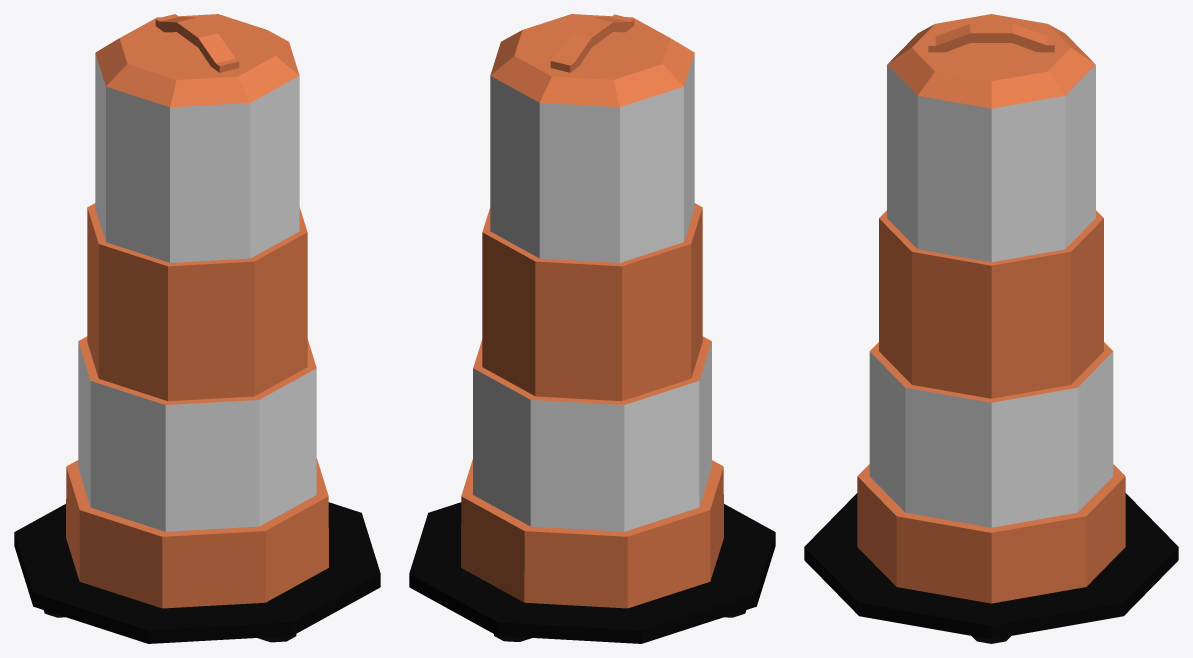
Rendered from Traffic_cone2.fbx.
3 renders of one model, left to right at view 1: azimuth 30°, elevation 25°; view 2: azimuth 150°, elevation 25°; view 3: azimuth 270°, elevation 25°, orthographic.
Parts seen in each view (by area): view 1: Circle; view 2: Circle; view 3: Circle.
Part boxes in pixels (box(x1,y1,x2,y2)): Circle: box(14, 14, 380, 643); Circle: box(409, 14, 775, 643); Circle: box(804, 14, 1178, 643).
Size of the model in its own units: 432 by 690 by 432.
